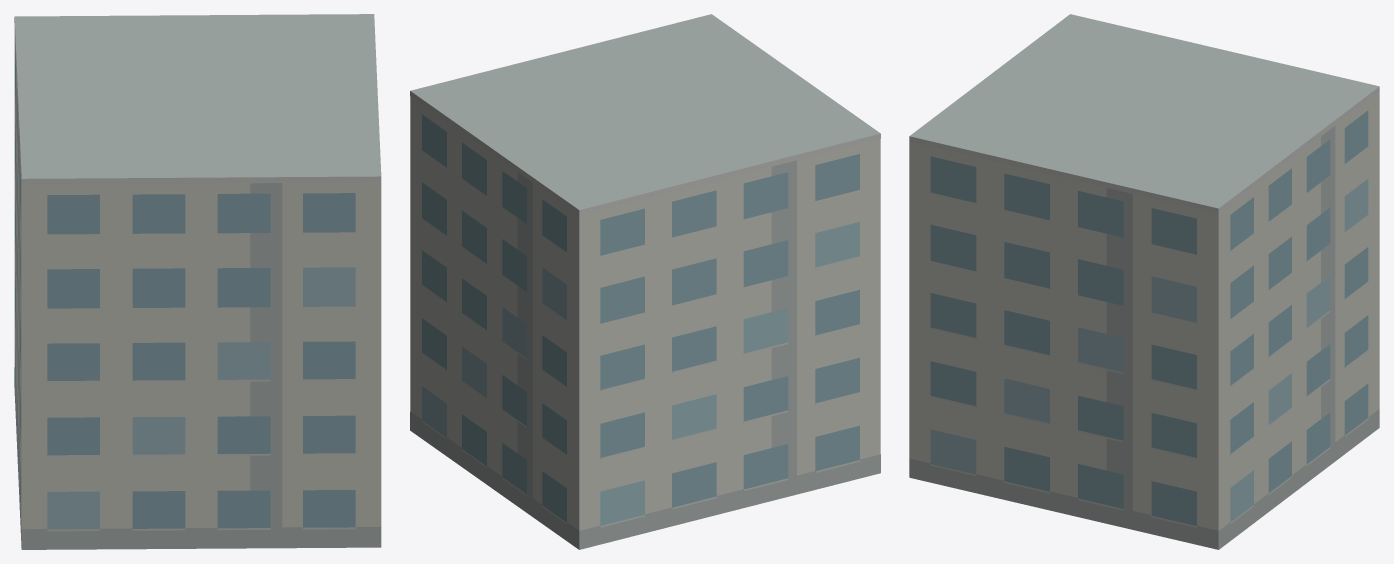
File: survey-upis-32967205.glb
The picture shows the model from 3 angles, left to right: view 1: azimuth 30°, elevation 25°; view 2: azimuth 150°, elevation 25°; view 3: azimuth 270°, elevation 25°; orthographic projection. The views are drawn at different scales.
Parts seen in each view (by area): view 1: survey-upis-32967205.tmp; view 2: survey-upis-32967205.tmp; view 3: survey-upis-32967205.tmp.
Boxes of the visible parts, x1,y1,x2,y2 form: survey-upis-32967205.tmp: (14,14,381,549); survey-upis-32967205.tmp: (410,14,880,549); survey-upis-32967205.tmp: (909,14,1379,549).
Bounding box in the file's own units: 18.65 × 15.25 × 19.05.
